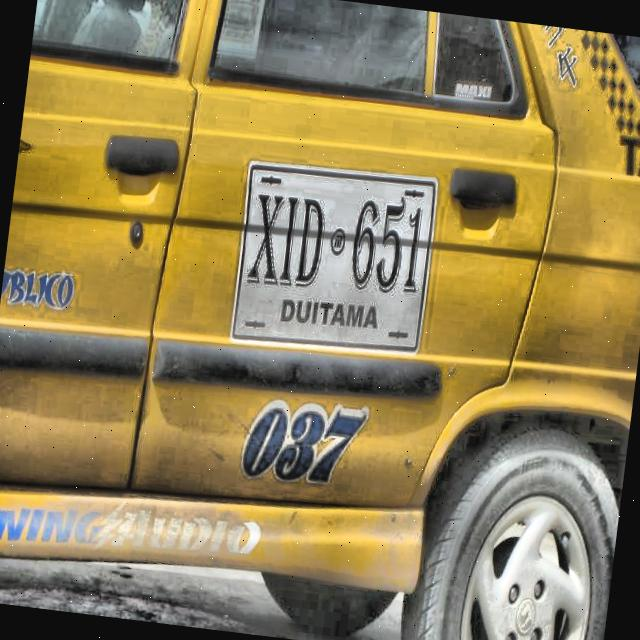1: (402, 199, 424, 297)
5: (376, 197, 408, 297)
6: (349, 198, 382, 295)
D: (293, 196, 328, 289)
I: (278, 195, 300, 288)
X: (243, 192, 286, 287)
